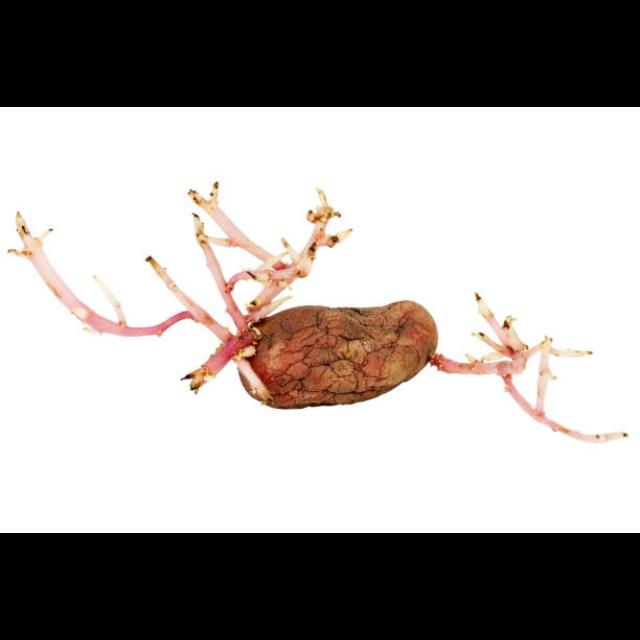Sprouted potato: (3, 174, 630, 453)
